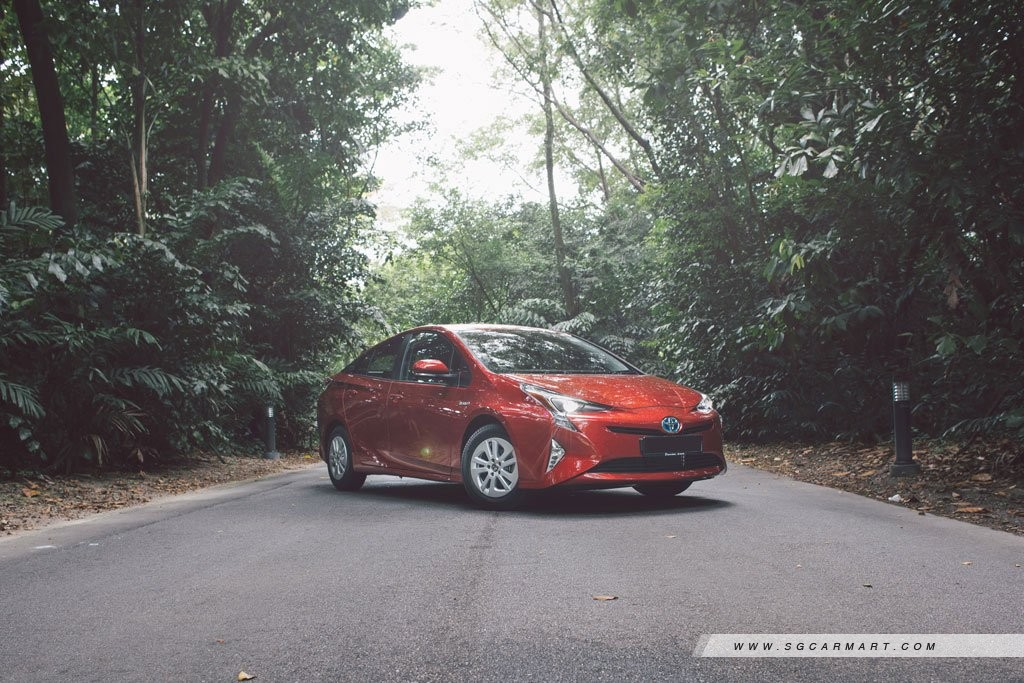car: (311, 317, 731, 514)
